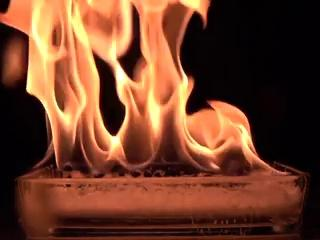Fire: (2, 1, 287, 181)
